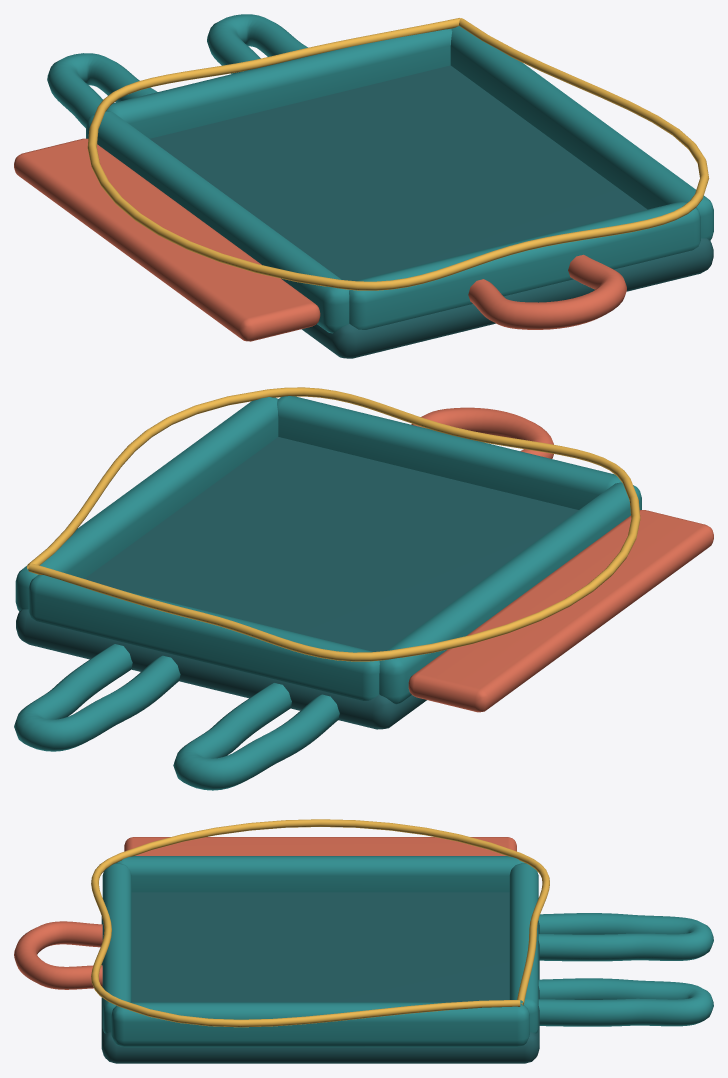
File: PackingBagShell.fbx
3 views of the same model, one above another, from view 1: azimuth 30°, elevation 25°; view 2: azimuth 150°, elevation 25°; view 3: azimuth 270°, elevation 25° (orthographic). The views are drawn at different scales.
Visible parts, largest first — view 1: SoftBagBack, FoldedFabricLid, PaddedEnd, PaddedEnd.001, ZipAround, PaddedSide, PaddedSide.001, Handle, ShoulderStrap.001, ShoulderStrap; view 2: SoftBagBack, FoldedFabricLid, PaddedEnd, PaddedEnd.001, ZipAround, PaddedSide, PaddedSide.001, ShoulderStrap, ShoulderStrap.001, Handle; view 3: SoftBagBack, PaddedSide, PaddedSide.001, ZipAround, ShoulderStrap, ShoulderStrap.001, FoldedFabricLid, PaddedEnd.001, Handle, PaddedEnd.
Boxes of the visible parts, x1,y1,x2,y2 form: SoftBagBack: (150,65,713,358); FoldedFabricLid: (14,138,320,341); PaddedEnd: (106,29,452,138); PaddedEnd.001: (349,201,700,329); ZipAround: (87,18,709,290); PaddedSide: (450,26,713,240); PaddedSide.001: (86,111,349,333); Handle: (468,254,626,329); ShoulderStrap.001: (47,53,157,127); ShoulderStrap: (207,14,307,73); SoftBagBack: (16,437,578,729); FoldedFabricLid: (408,510,713,712); PaddedEnd: (28,574,379,700); PaddedEnd.001: (277,396,621,509); ZipAround: (27,387,640,661); PaddedSide: (15,397,278,611); PaddedSide.001: (379,482,641,704); ShoulderStrap: (14,644,180,751); ShoulderStrap.001: (173,683,339,790); Handle: (411,407,553,458); SoftBagBack: (101,892,539,1063); PaddedSide: (111,1002,529,1047); PaddedSide.001: (116,856,524,892); ZipAround: (91,819,549,1027); ShoulderStrap: (538,978,713,1026); ShoulderStrap.001: (538,913,713,961); FoldedFabricLid: (124,837,516,855); PaddedEnd.001: (102,863,131,1033); Handle: (14,921,102,989); PaddedEnd: (509,863,538,1033).
Bounding box in the file's own units: 75.92 × 11.07 × 109.
